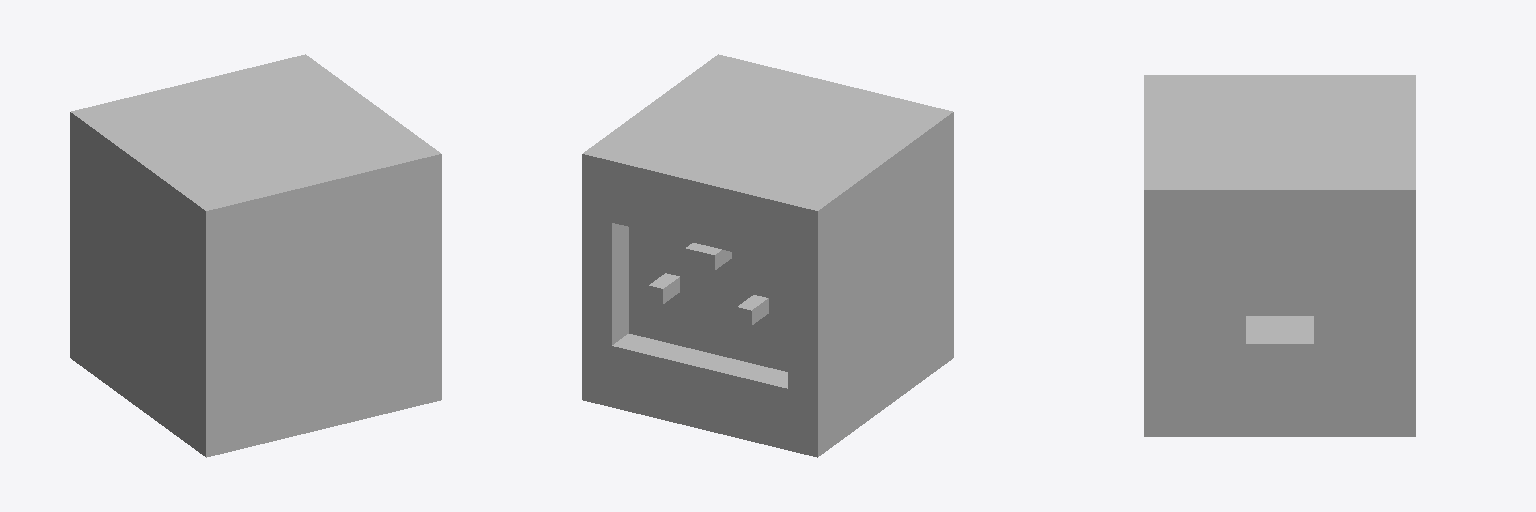
File: sequencer.obj
3 views of the same model, side by side, from view 1: azimuth 30°, elevation 25°; view 2: azimuth 150°, elevation 25°; view 3: azimuth 270°, elevation 25° (orthographic).
Visible parts, largest first — view 1: Sequencer_Cube.001; view 2: Sequencer_Cube.001; view 3: Sequencer_Cube.001.
Part boxes in pixels (bbox=[...]): Sequencer_Cube.001: bbox=[70, 54, 441, 457]; Sequencer_Cube.001: bbox=[582, 54, 953, 457]; Sequencer_Cube.001: bbox=[1144, 75, 1415, 436].
Size of the model in its own units: 1 by 1 by 1.